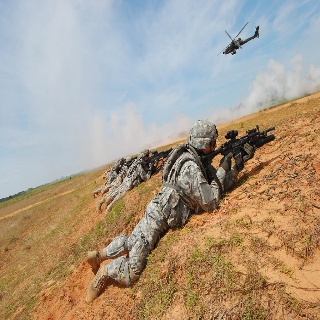rifle: (198, 126, 277, 175), (141, 147, 172, 171)
